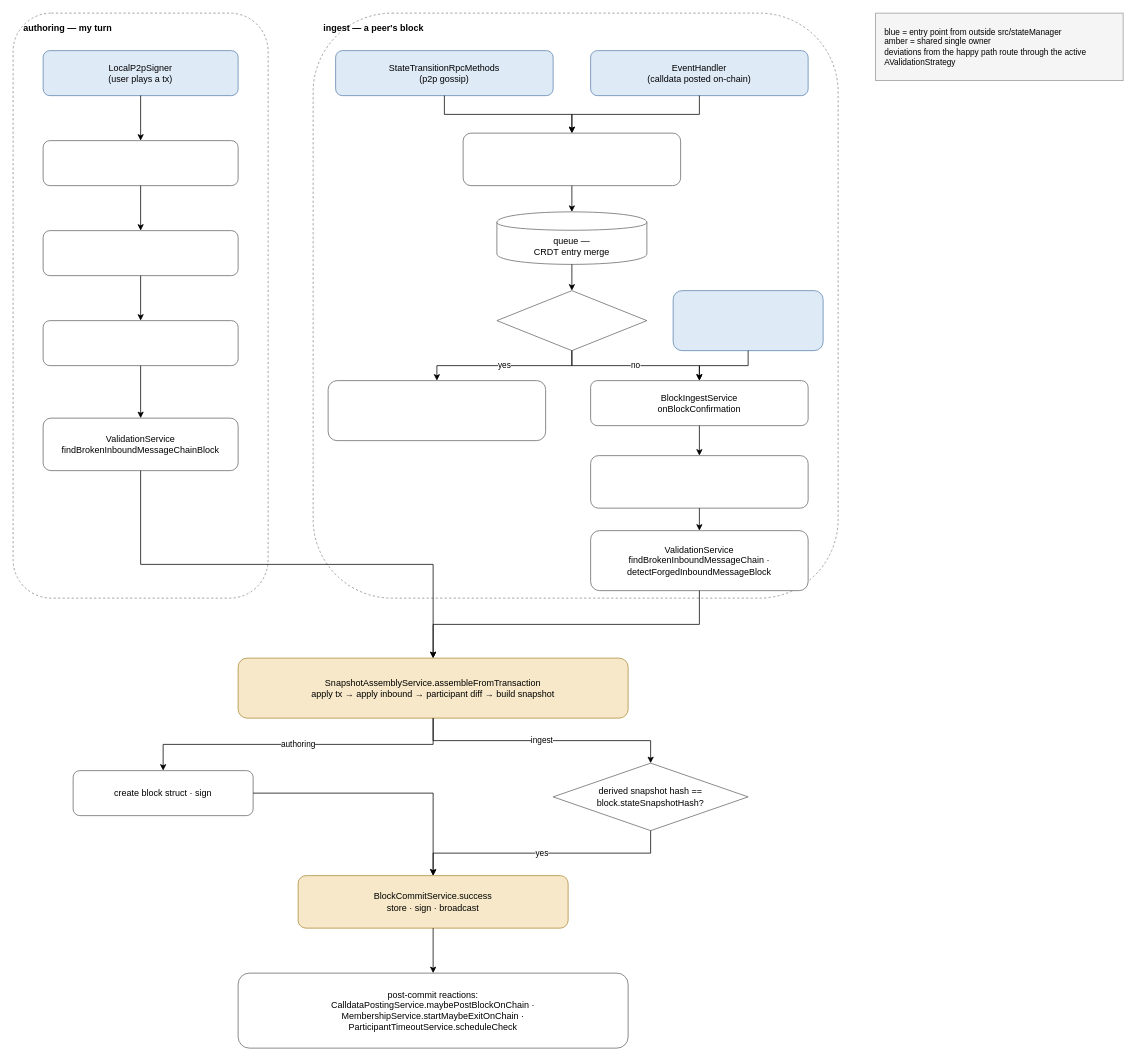
This 1136x1061 diagram has some shape labels left out. The centre of each missing label's shape, as x and y in pixels:
"block already stored?" goes at [571,320].
"BlockProductionService playTransaction" goes at [140,163].
"BlockQueueManager ingestBlockConfirmation (authenticity gate first)" goes at [571,159].
"guards: channel open · isMyTurn · adjustTimestampIfNeeded" goes at [140,253].
"previous snapshot + pending inbound blocks" goes at [140,343].
"SpectateService · dispute replay (onBlockConfirmationStruct)" goes at [747,320].
"StoredBlockMergeService merge new signatures · store/re-gossip via strategy hook" goes at [436,410].
"ValidationService validateBlockConfirmation (deviations → strategy hooks)" goes at [699,481].
